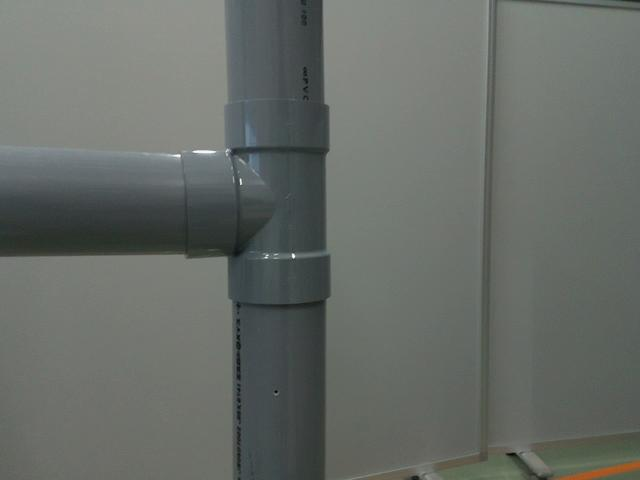junction: (182, 100, 343, 315)
